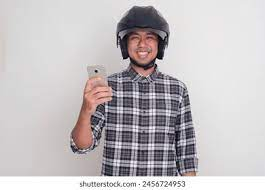helmets: (105, 5, 173, 67)
